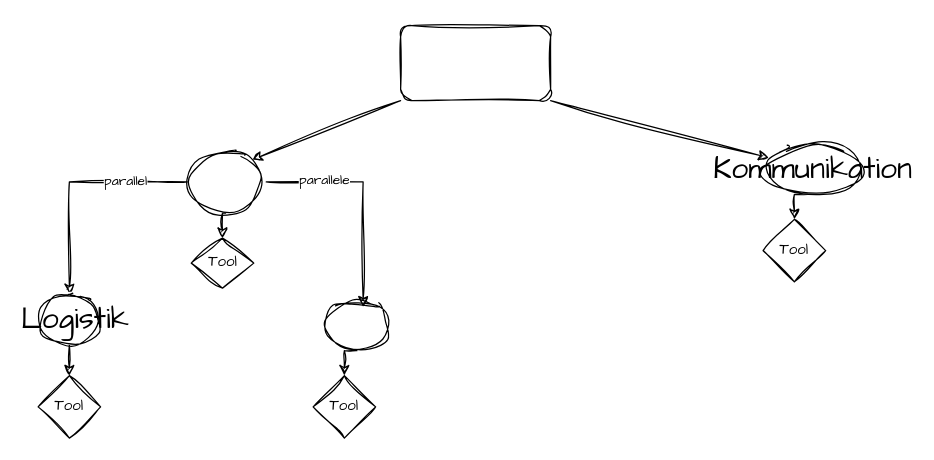
Some shapes in this 934 by 460 pixel diagram are drawn without their labels. Each missing label, with the centre of its shape:
Einsatzleitung(Router): pixel 475 62
Ressourcen: pixel 356 325
Triage: pixel 225 181
